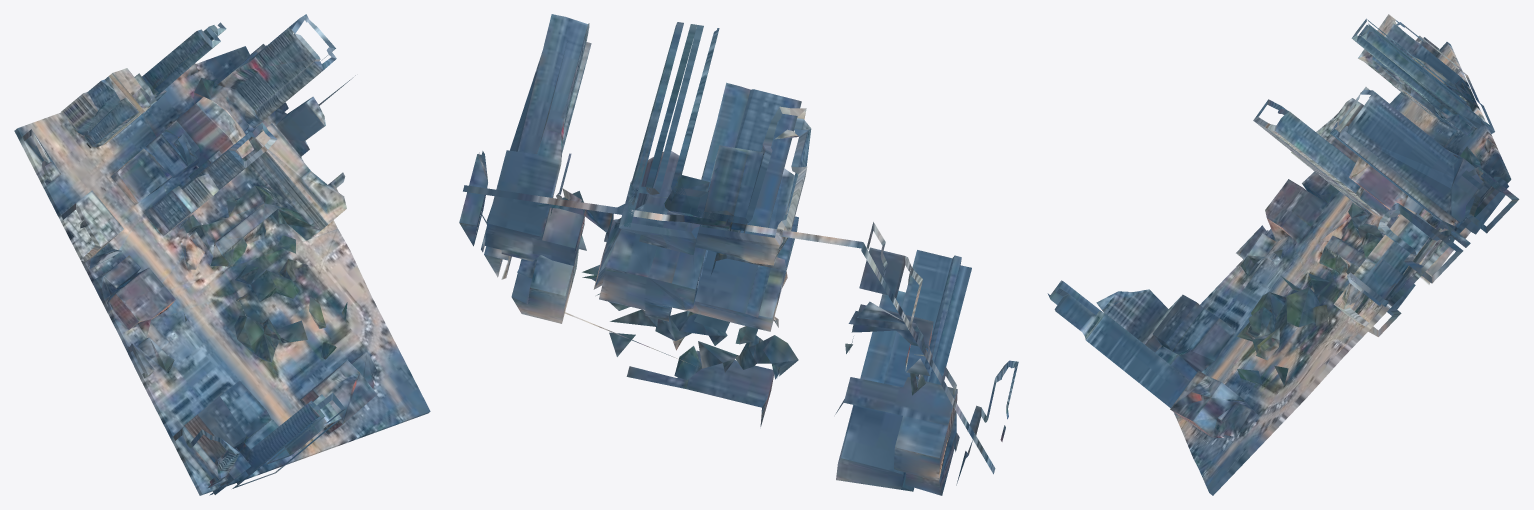
The model's file is AJVsH2z0CNhYLuukvLPjK7z2LzGskZPeyLAp22T2VRHOpHjV8ZsyhNlK5VAhk6FhSeZDTAfE-JtQwfmDro7tiWISs5ciYnSg33EFM-_bFy45MqoOEDiE_1nsLlXZzo6489T8hoOSNbyUbAzg-SrMQ1x3yA4j1law6g.glb.
3 renders of one model, left to right at view 1: azimuth 30°, elevation 25°; view 2: azimuth 150°, elevation 25°; view 3: azimuth 270°, elevation 25°, orthographic. The views are drawn at different scales.
Size of the model in its own units: 257 by 310 by 325.
Materials: 1 (1 with a texture image).
